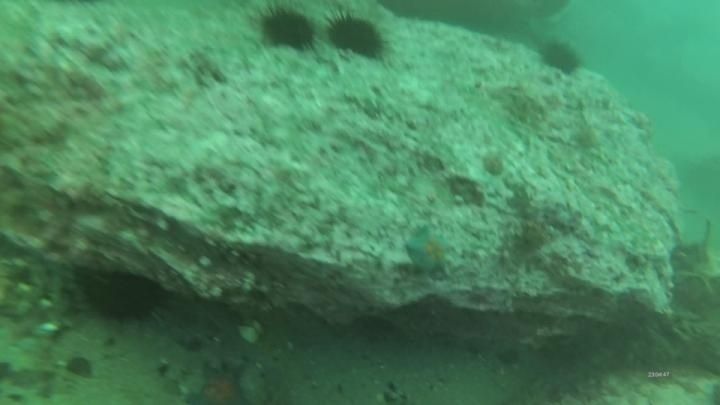echinus: (78, 266, 170, 328), (323, 10, 388, 62), (255, 3, 319, 54), (538, 38, 583, 77)
starfish: (183, 360, 252, 405), (403, 225, 455, 277)
